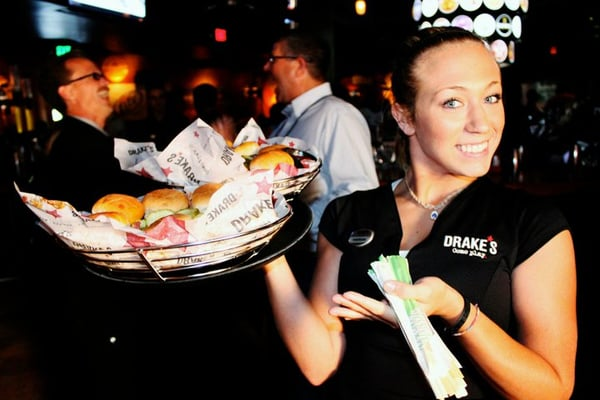pizza: (263, 30, 579, 395), (254, 31, 380, 269), (26, 42, 188, 209)
